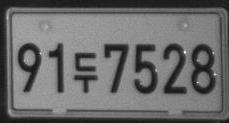1: (47, 41, 71, 94)
2: (161, 41, 187, 94)
5: (133, 42, 159, 94)
7: (103, 43, 130, 94)
8: (190, 42, 216, 95)
9: (16, 41, 42, 92)
두: (73, 51, 98, 94)
